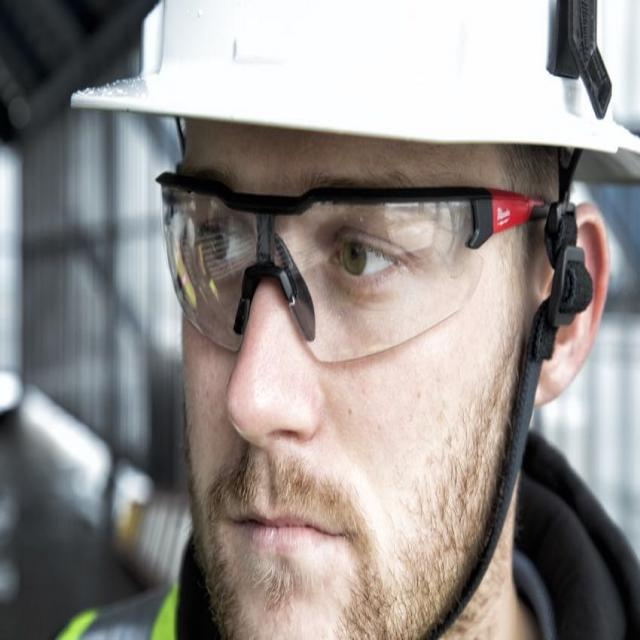Protective Glasses: (144, 160, 553, 367)
